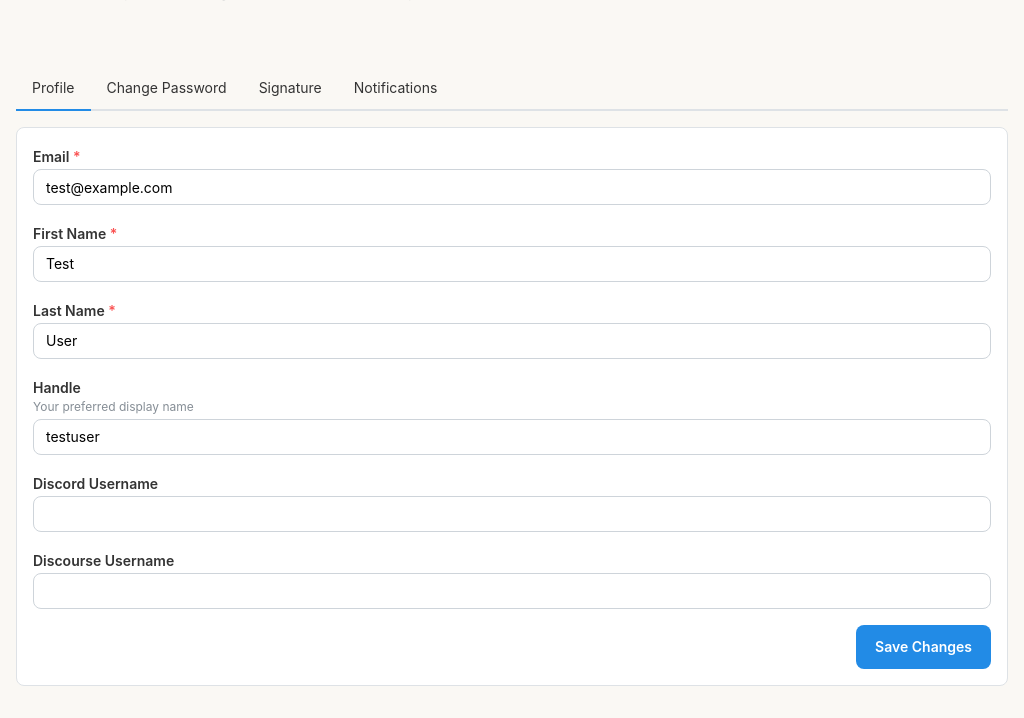
Test case: UserProfilePage › disables the profile save button while a save is in flight
(page scrolled)
Click the button "Save Changes". click: (924, 647)
box: [856,625,991,669]
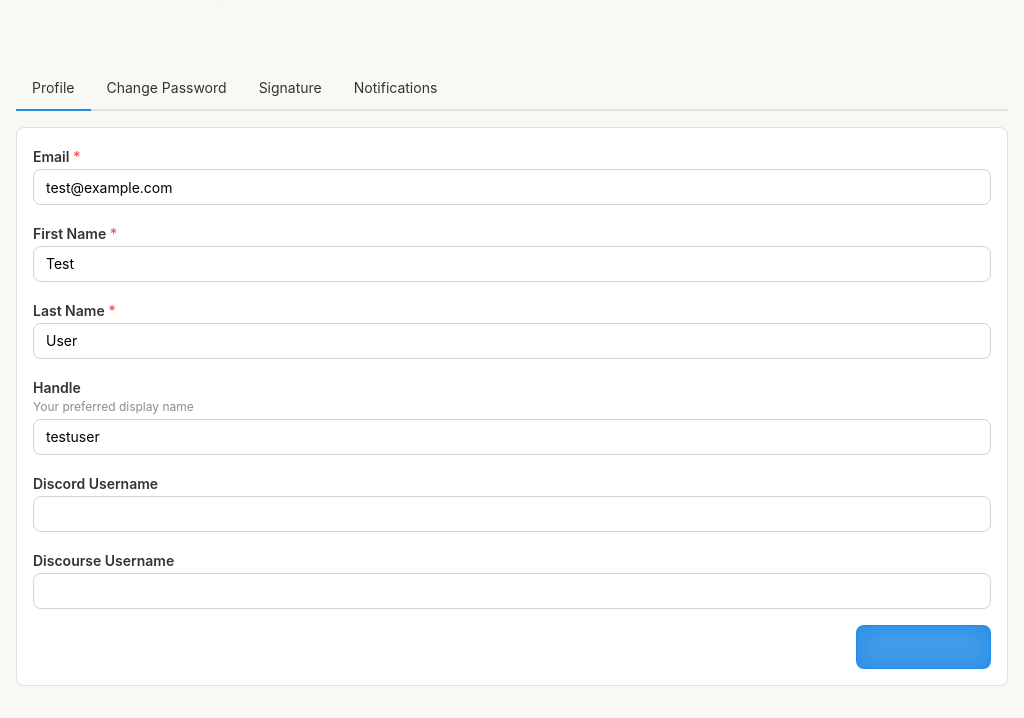
Result: the button named "save changes" is disabled
// A second click on the disabled button cannot fire another request.
Click the button named "save changes". click: (924, 647)
box: [856,625,991,669]
(page scrolled)
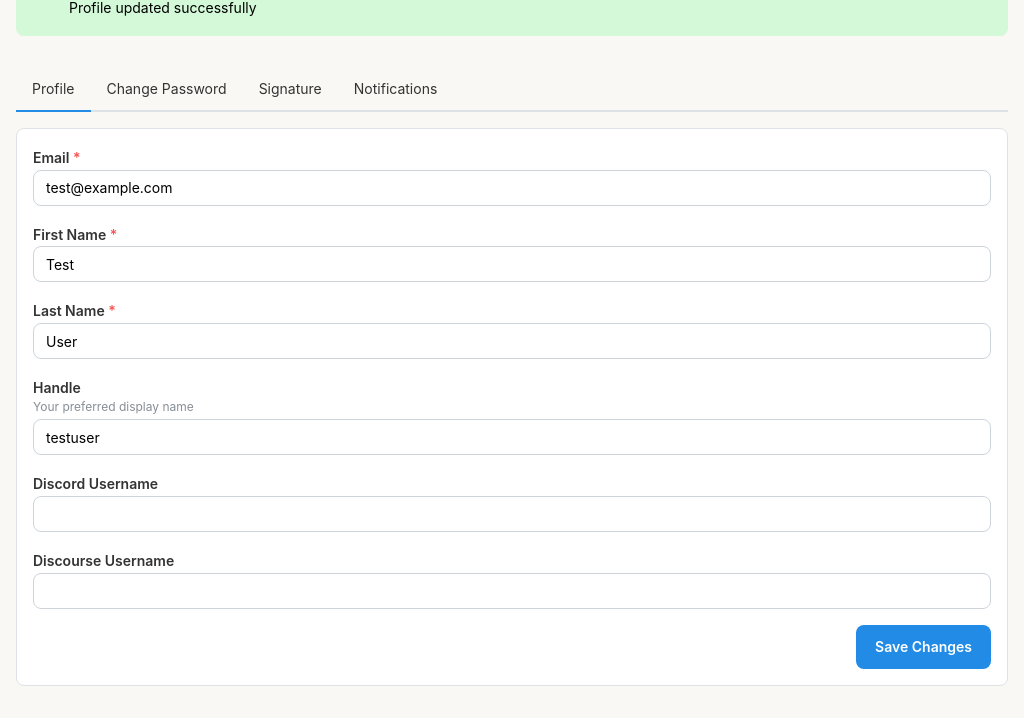
Result: the button "Save Changes" is enabled at [856,625,991,669]
